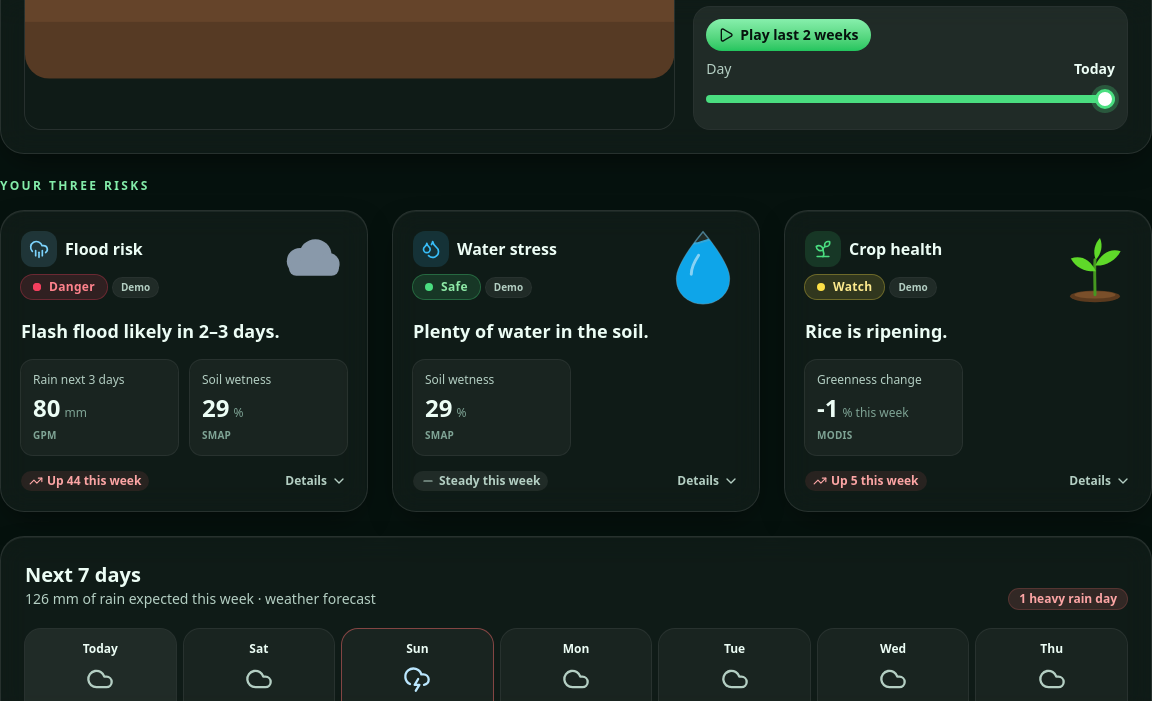
Test: DashboardPage › opens and closes the risk detail panel with the trend chart
(page scrolled)
Click the button named "Flood risk: Danger": (184, 361) [1,211,367,511]
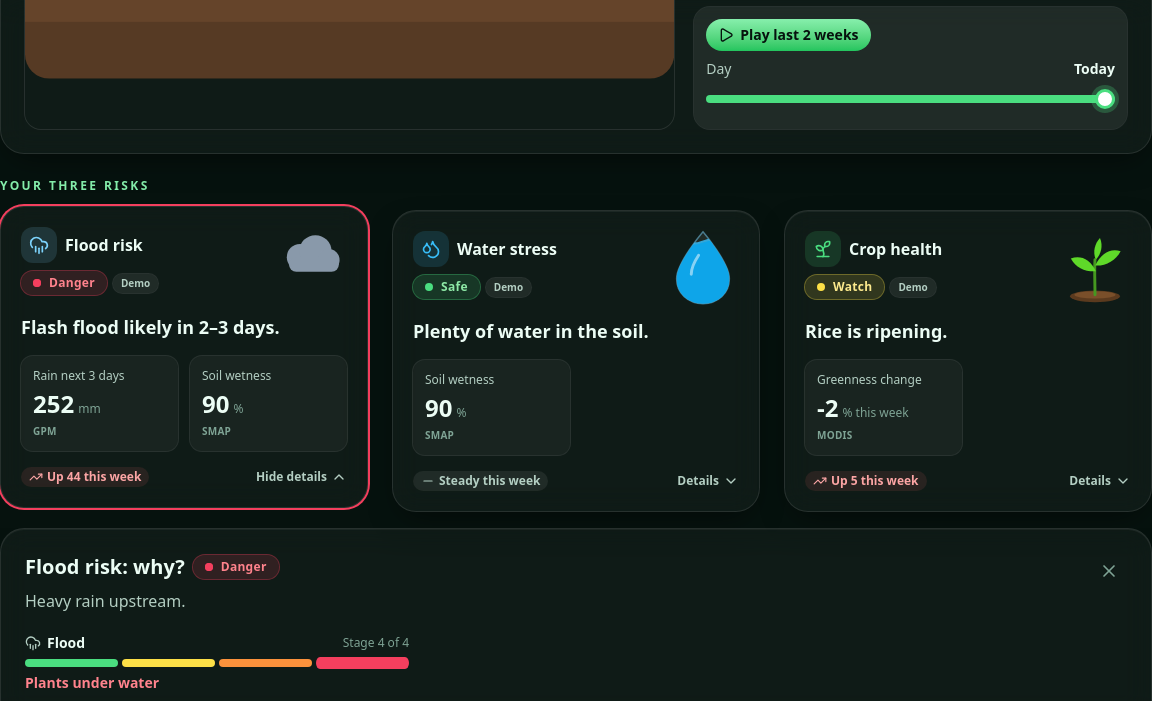
expect the button named "Flood risk: Danger" is expanded: met, box [1,207,367,507]
expect the heading "Flood risk: why?" is shown: met, box [25,553,185,581]
Click the button named "Close details": (1109, 571) [1091,553,1127,589]
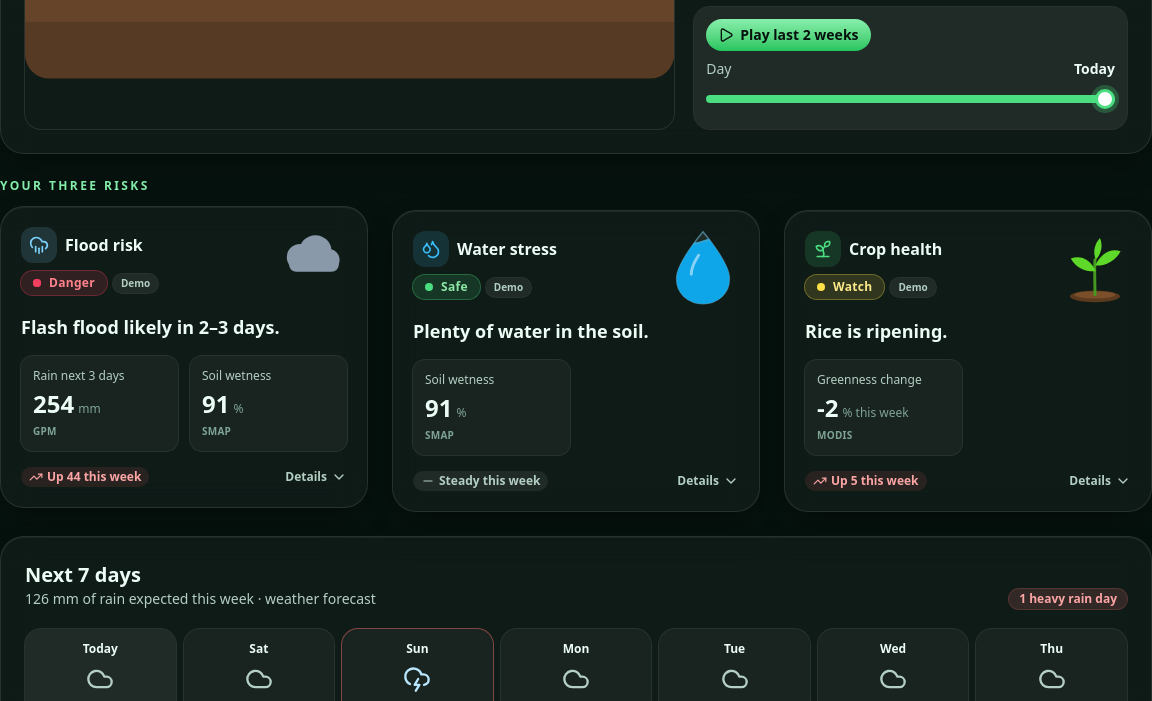
expect the heading "Flood risk: why?" is gone: met
